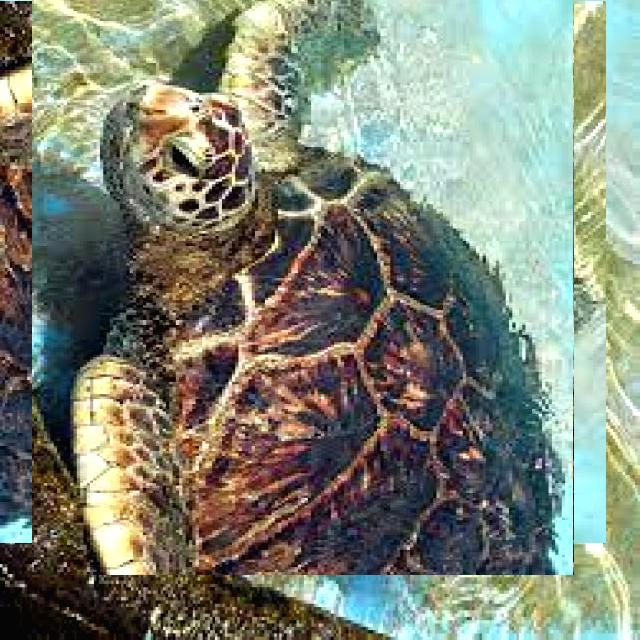Sea turtle: (16, 0, 590, 559)
